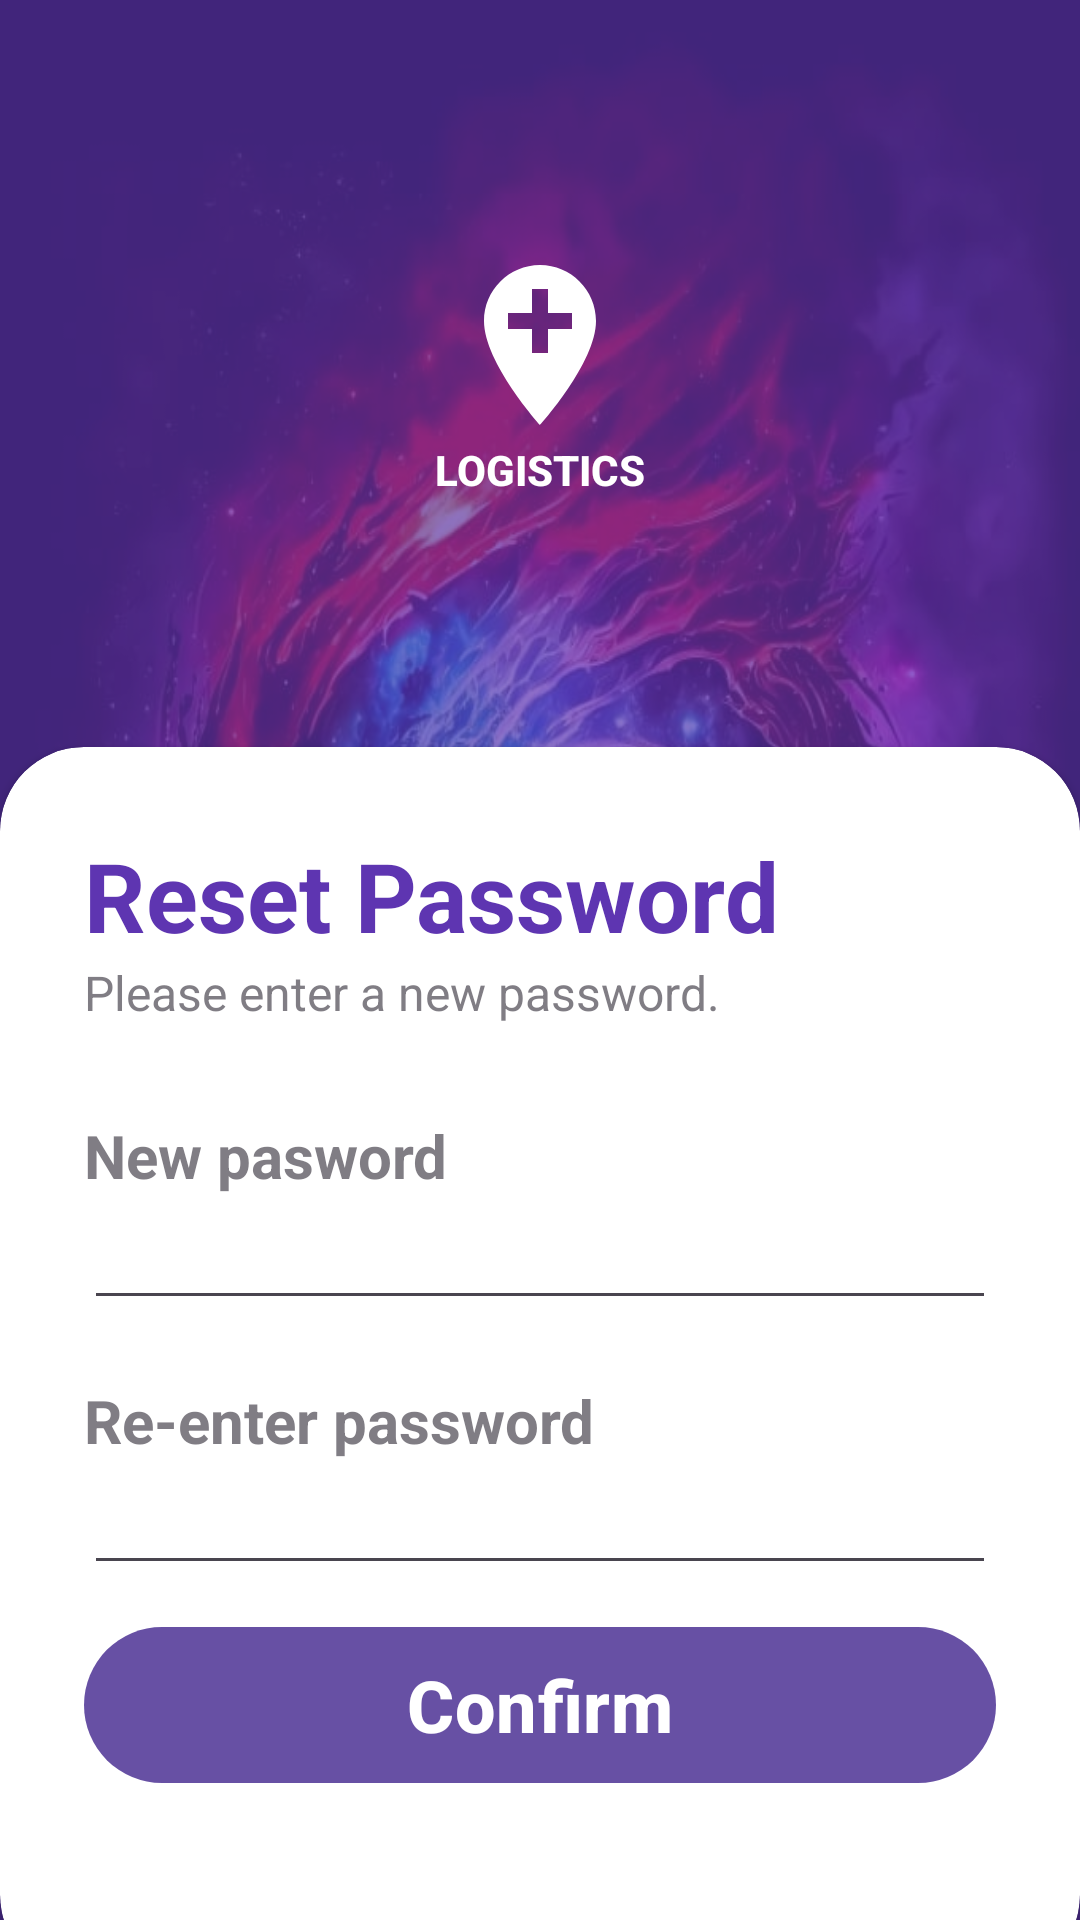

Icon click points for this 1080 × 1920 phone screenshot, format (x,y):
location: (540,353)
